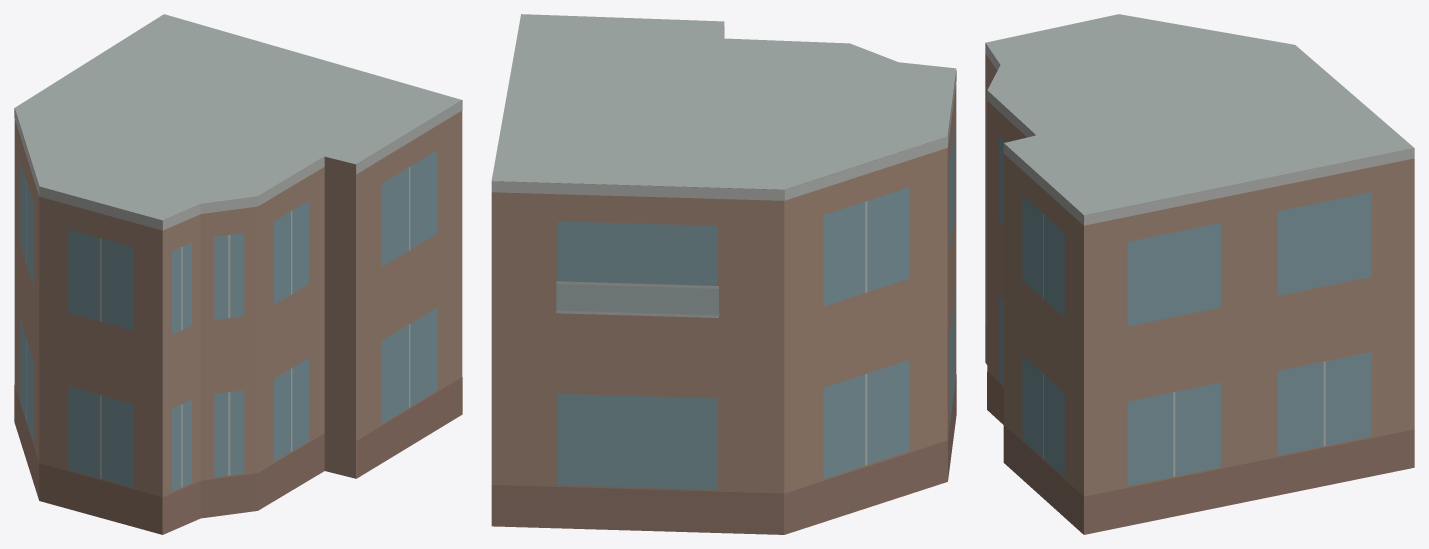
File: survey-upis-32500700.glb
3 renders of one model, left to right at view 1: azimuth 30°, elevation 25°; view 2: azimuth 150°, elevation 25°; view 3: azimuth 270°, elevation 25°, orthographic. The views are drawn at different scales.
Visible parts, largest first — view 1: survey-upis-32500700.tmp; view 2: survey-upis-32500700.tmp; view 3: survey-upis-32500700.tmp.
Part boxes in pixels (x1=…): survey-upis-32500700.tmp: x1=14, y1=14, x2=462, y2=534; survey-upis-32500700.tmp: x1=491, y1=14, x2=956, y2=534; survey-upis-32500700.tmp: x1=985, y1=14, x2=1414, y2=534.
Size of the model in its own units: 10.14 by 7.5 by 9.14.
